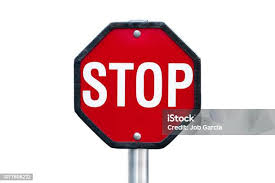stop sign: (73, 22, 200, 149)
